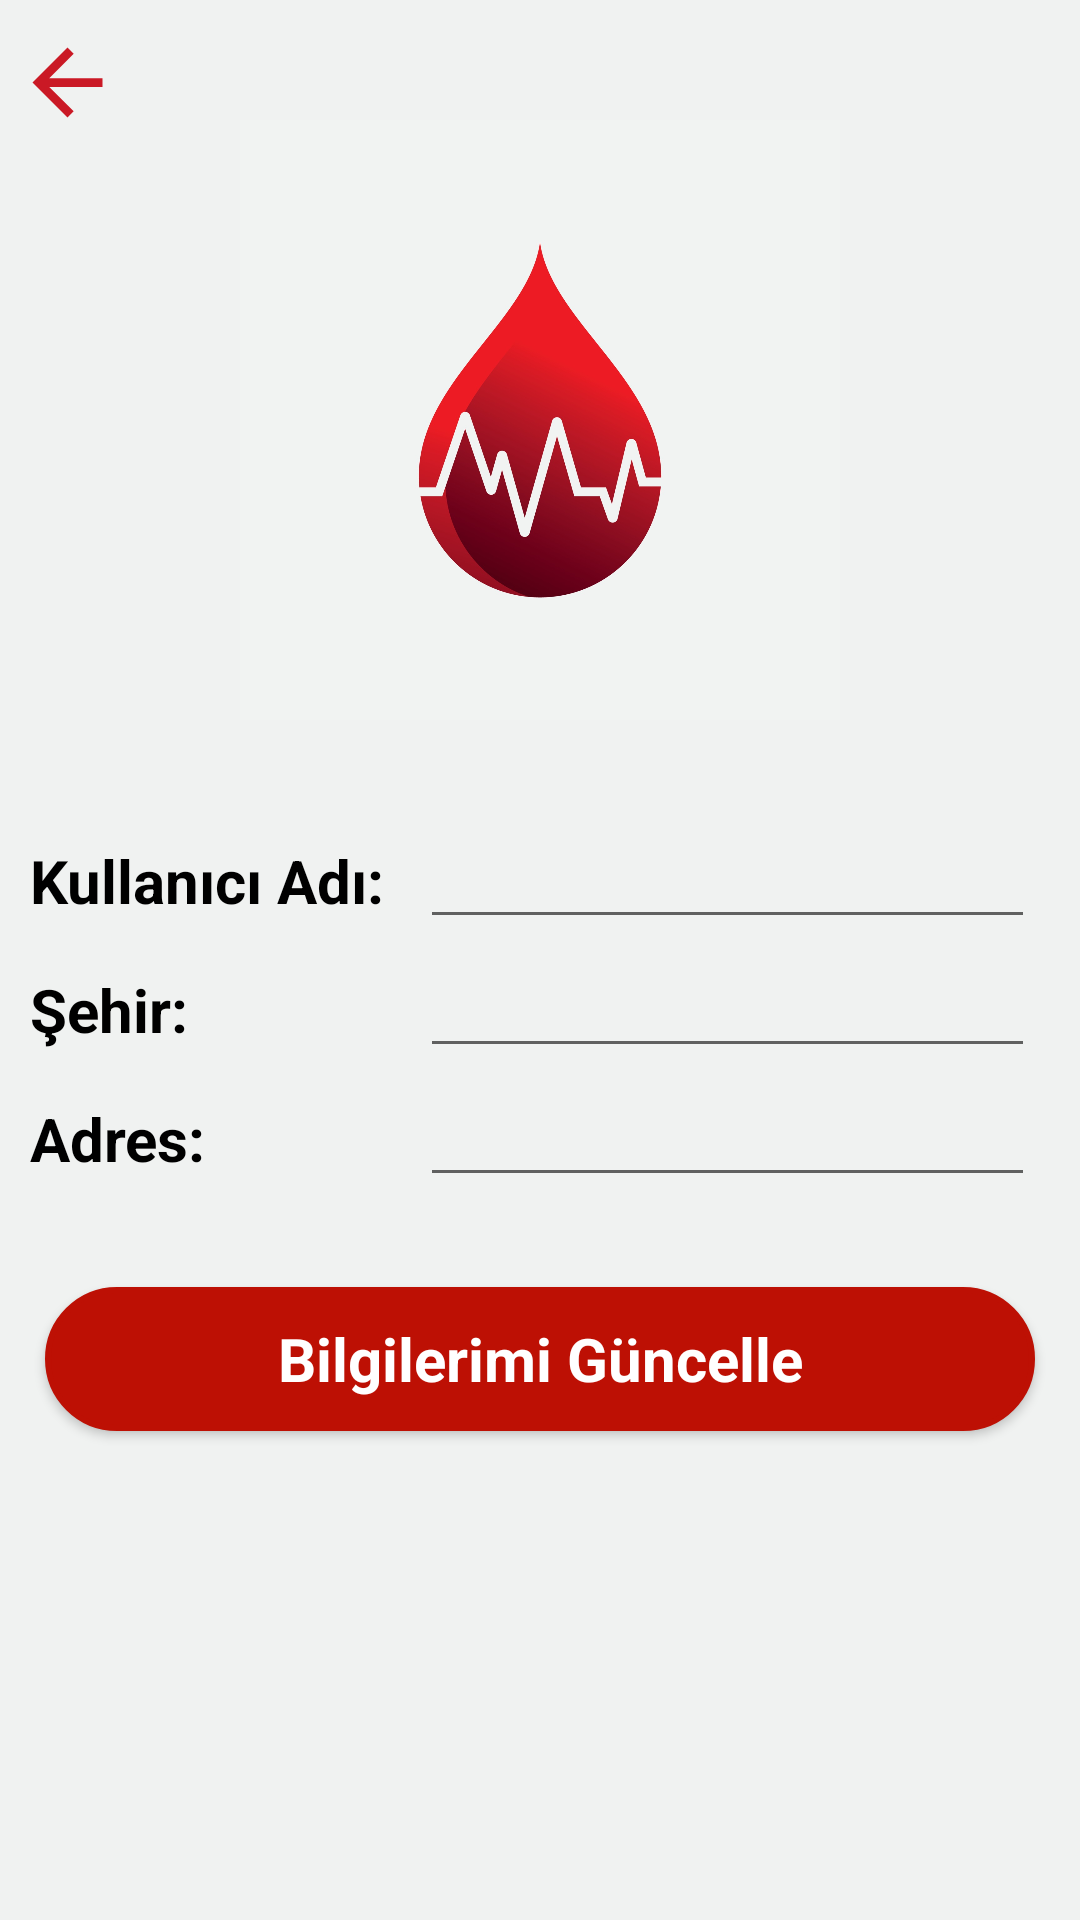

Where to tap for icons on this 1080px x 1920px app screen, as (x,y):
arrow back: (67,82)
